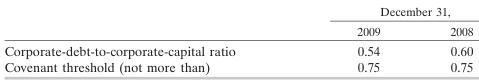table: (3, 3, 472, 74)
table column: (3, 3, 295, 74), (295, 3, 414, 74), (414, 3, 472, 74)
table column header: (3, 3, 472, 40)
table row: (3, 20, 472, 40), (3, 40, 472, 58), (3, 3, 472, 20), (3, 58, 472, 74)
table spanning cell: (295, 3, 472, 20)
